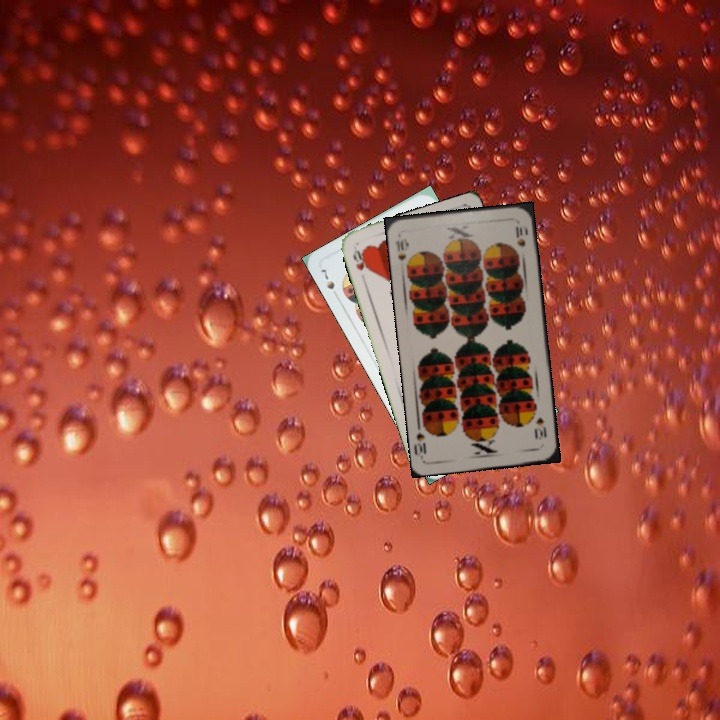HO: (349, 244, 371, 273)
S10: (391, 235, 413, 271), (532, 413, 549, 442)
S7: (317, 265, 337, 292)
